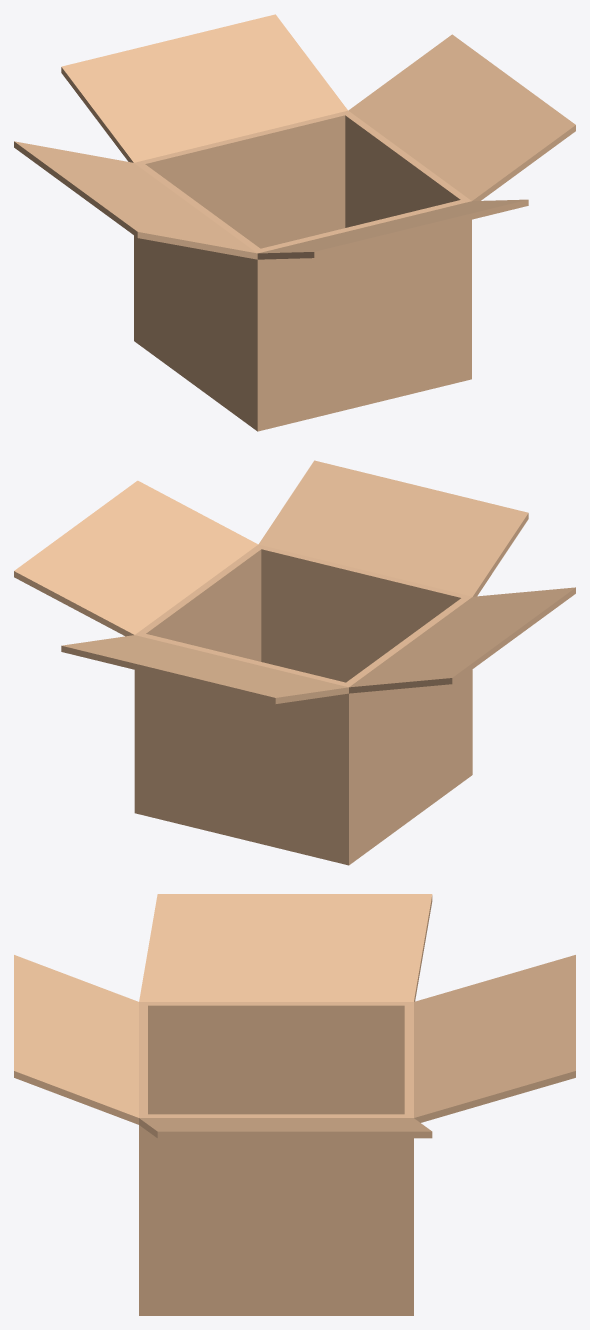
3 views of the same model, one above another, from view 1: azimuth 30°, elevation 25°; view 2: azimuth 150°, elevation 25°; view 3: azimuth 270°, elevation 25° (orthographic). The views are drawn at different scales.
Visible parts, largest first — view 1: Empty box.002; view 2: Empty box.002; view 3: Empty box.002.
Boxes of the visible parts, bbox=[...] form: Empty box.002: bbox=[14, 14, 575, 431]; Empty box.002: bbox=[14, 460, 575, 865]; Empty box.002: bbox=[14, 894, 575, 1315].
Bounding box in the file's own units: 420 × 202 × 420.
